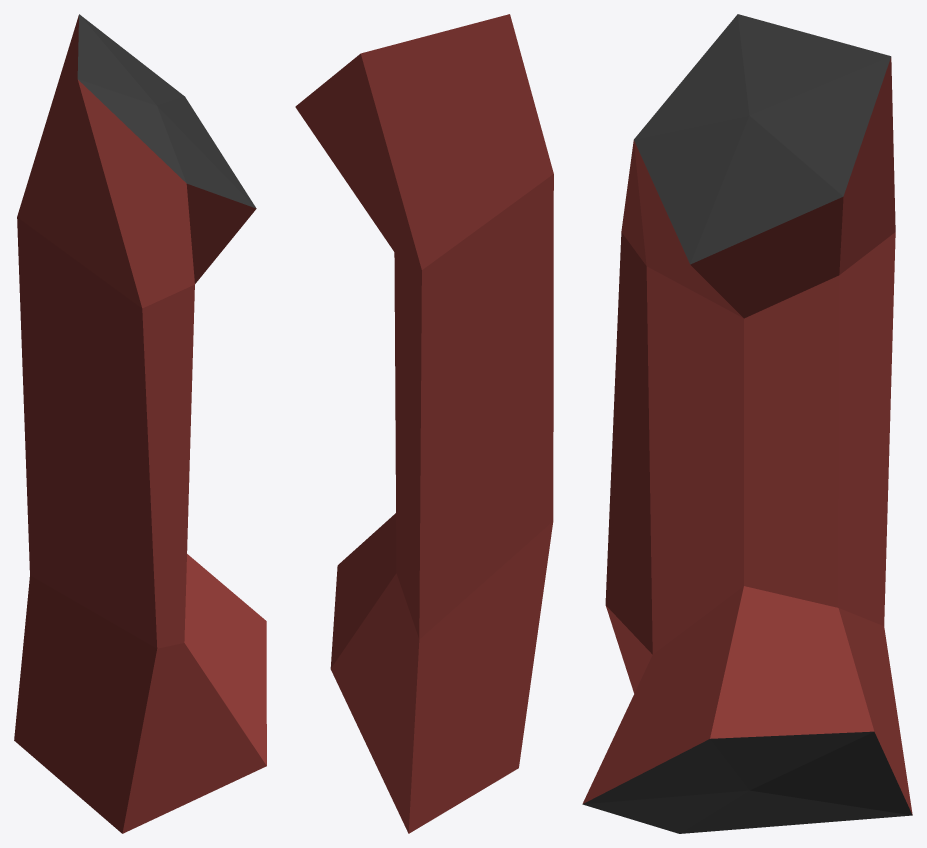
File: Can_2.fbx
3 renders of one model, left to right at view 1: azimuth 30°, elevation 25°; view 2: azimuth 150°, elevation 25°; view 3: azimuth 270°, elevation 25°, orthographic. The views are drawn at different scales.
Visible parts, largest first — view 1: Can_2; view 2: Can_2; view 3: Can_2.
Boxes of the visible parts, x1,y1,x2,y2 form: Can_2: (14,14,266,833); Can_2: (295,14,553,833); Can_2: (582,14,912,833).
Bounding box in the file's own units: 0.2842 × 1.14 × 0.4211.
